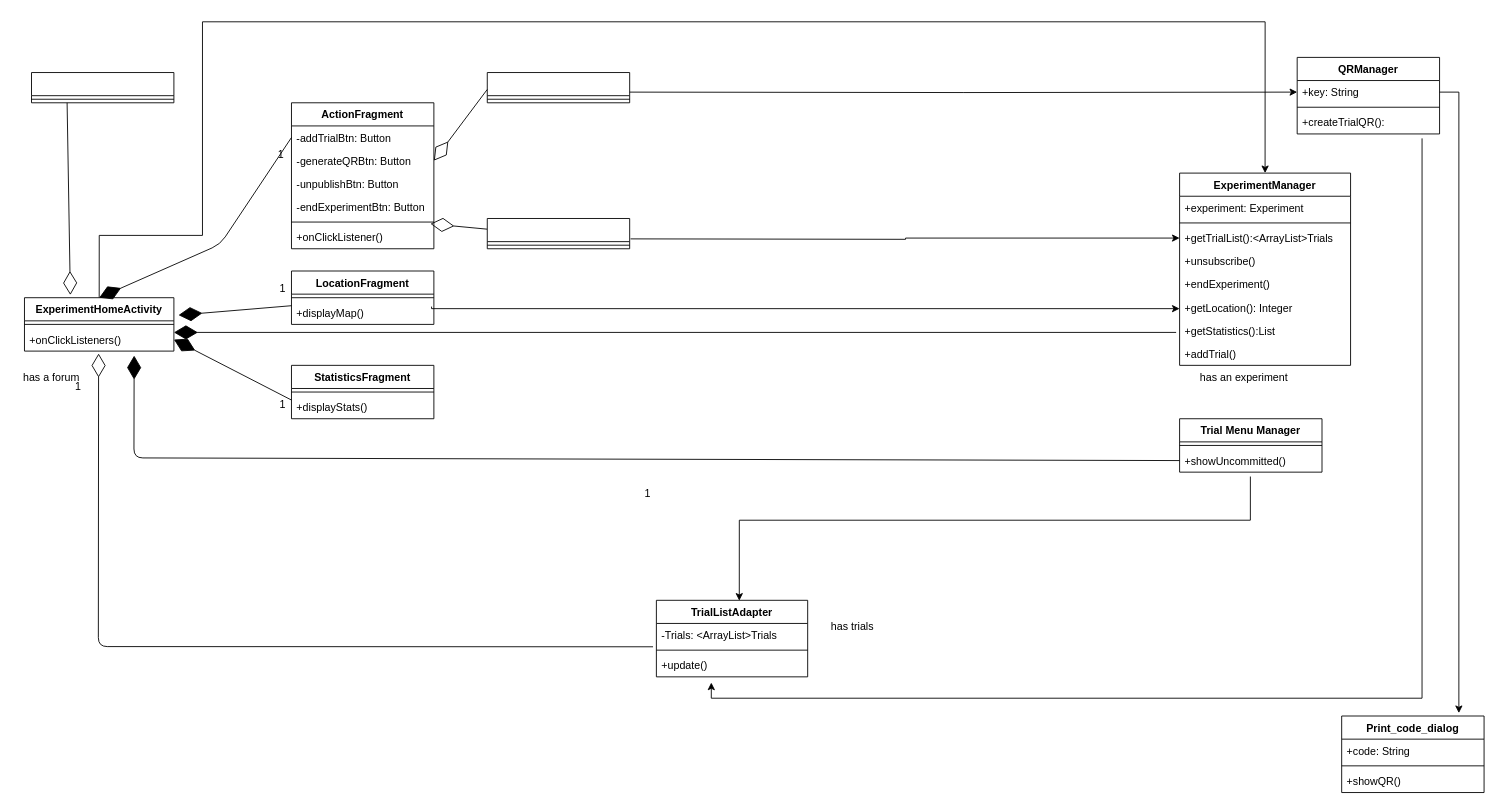
This 1500x811 diagram has some shape labels left out. The centre of each missing label's shape, as x and y in pixels:
"AddTrialDialog" belongs at point 558,233.
"QRFragment" belongs at point 558,87.
"Subscription Fragment" belongs at point 102,87.
